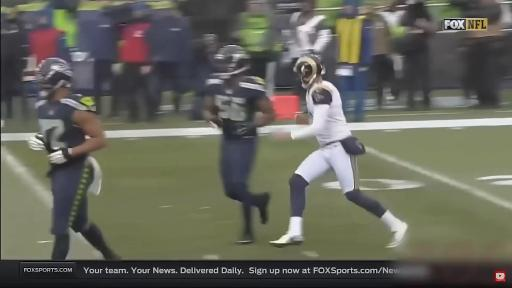Helmet: (35, 58, 72, 96), (215, 45, 250, 78), (294, 55, 325, 88)
Jersey: (206, 77, 266, 138), (36, 94, 95, 153), (306, 81, 351, 146)
Player: (271, 55, 407, 247), (29, 58, 119, 260), (204, 45, 274, 243)
